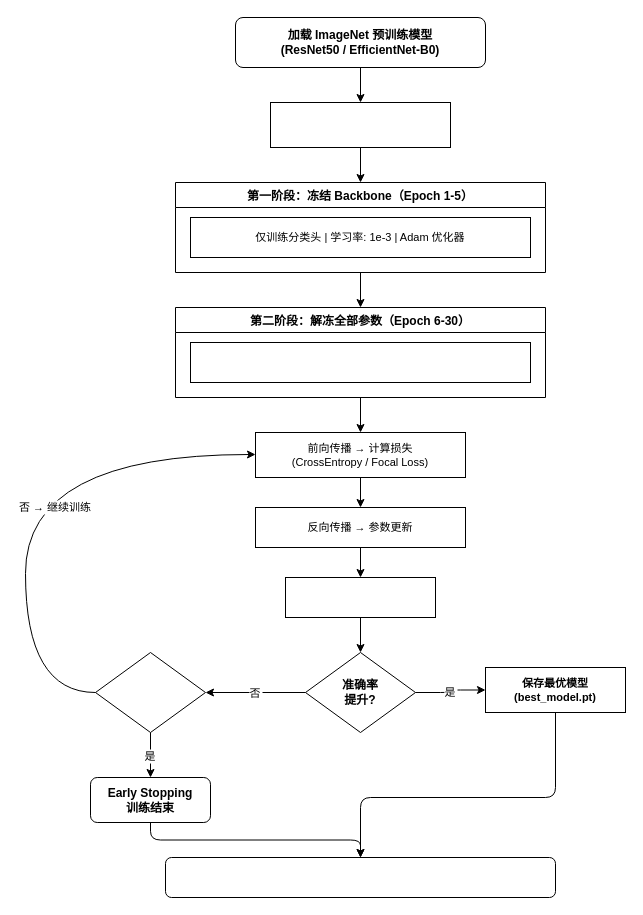
This 643x915 diagram has some shape labels left out. Here are the shapes that lost their labels. From the top down, the centre of each, then its label:
point 360,125: 修改全连接层 (输出 38 类)
point 360,362: 差分学习率: Backbone 1e-4 / 分类头 1e-3 CosineAnnealing 学习率调度
point 360,597: 验证集评估
point 150,692: 连续7轮 未提升?
point 360,877: 输出：最优模型权重 + 训练曲线 + 分类报告 + 混淆矩阵
